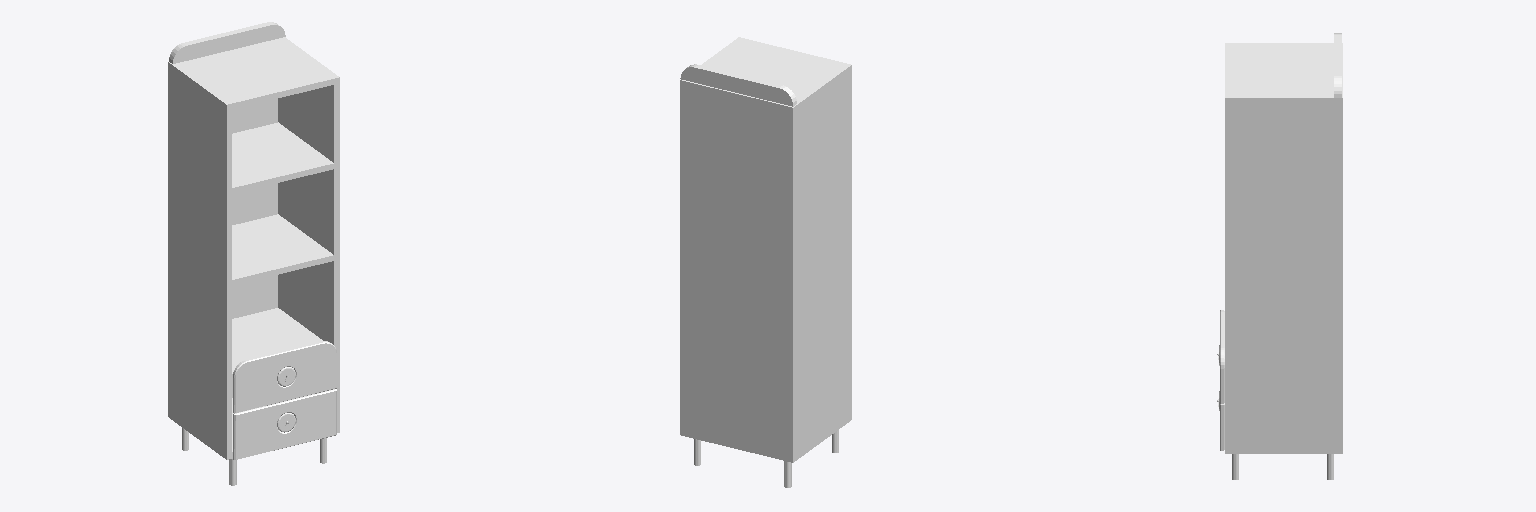
The model's file is shelf3.obj.
3 renders of one model, left to right at view 1: azimuth 30°, elevation 25°; view 2: azimuth 150°, elevation 25°; view 3: azimuth 270°, elevation 25°, orthographic.
Parts seen in each view (by area): view 1: shelf3; view 2: shelf3; view 3: shelf3.
Part boxes in pixels (left/top/right/bottom): shelf3: left=168, top=22, right=339, bottom=485; shelf3: left=680, top=37, right=851, bottom=487; shelf3: left=1217, top=33, right=1342, bottom=479.
Size of the model in its own units: 0.8061 by 2.73 by 0.772.